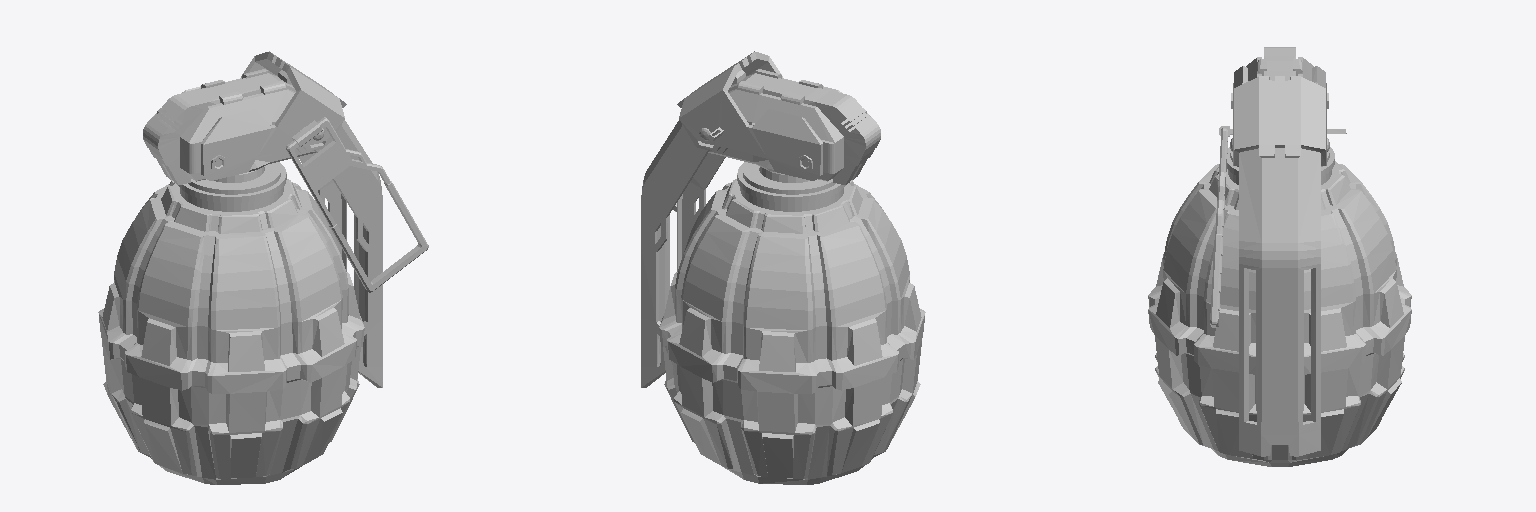
Rendered from grenade.obj.
The picture shows the model from 3 angles: view 1: azimuth 30°, elevation 25°; view 2: azimuth 150°, elevation 25°; view 3: azimuth 270°, elevation 25°; orthographic projection.
Visible parts, largest first — view 1: grenade; view 2: grenade; view 3: grenade.
Part boxes in pixels (bbox=[...]): grenade: bbox=[98, 51, 428, 484]; grenade: bbox=[641, 51, 925, 484]; grenade: bbox=[1148, 47, 1411, 466].
Size of the model in its own units: 0.3743 by 0.493 by 0.3081.